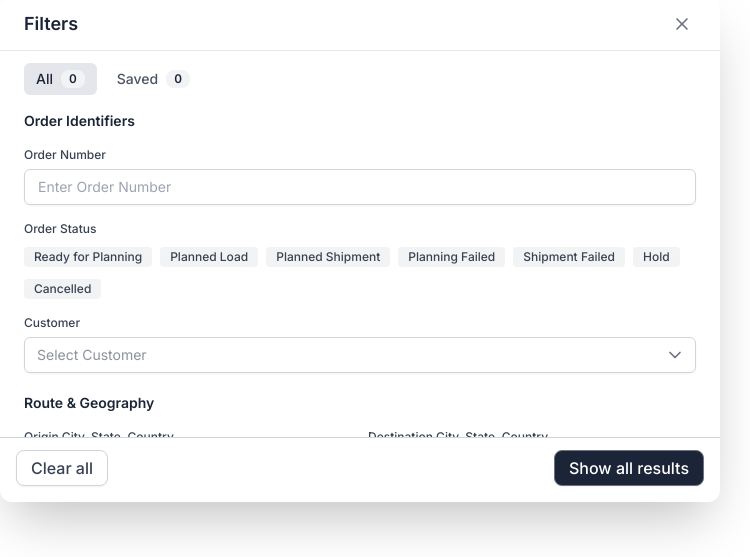
Test: All / Saved tabs › Saved renders the coming-soon placeholder and no fields
Click the button "Saved 0".
click(153, 79)  # box left=105, top=63, right=202, bottom=95
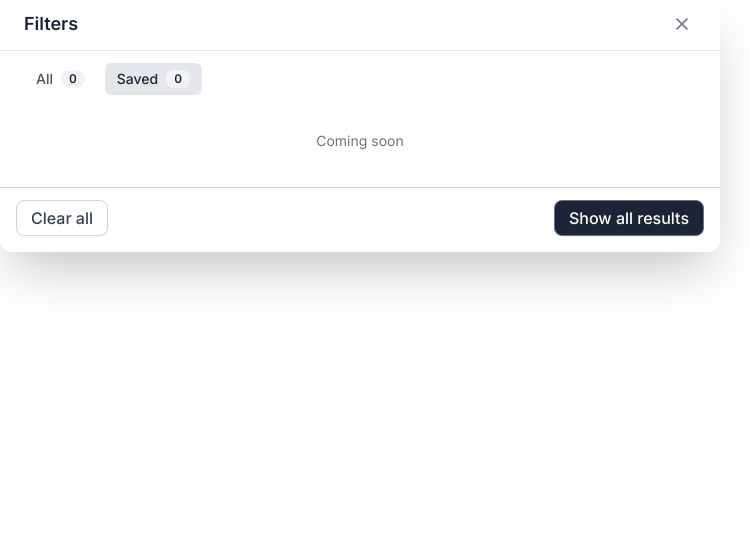
expect the text "Coming soon" is shown: met, box left=316, top=132, right=404, bottom=149
